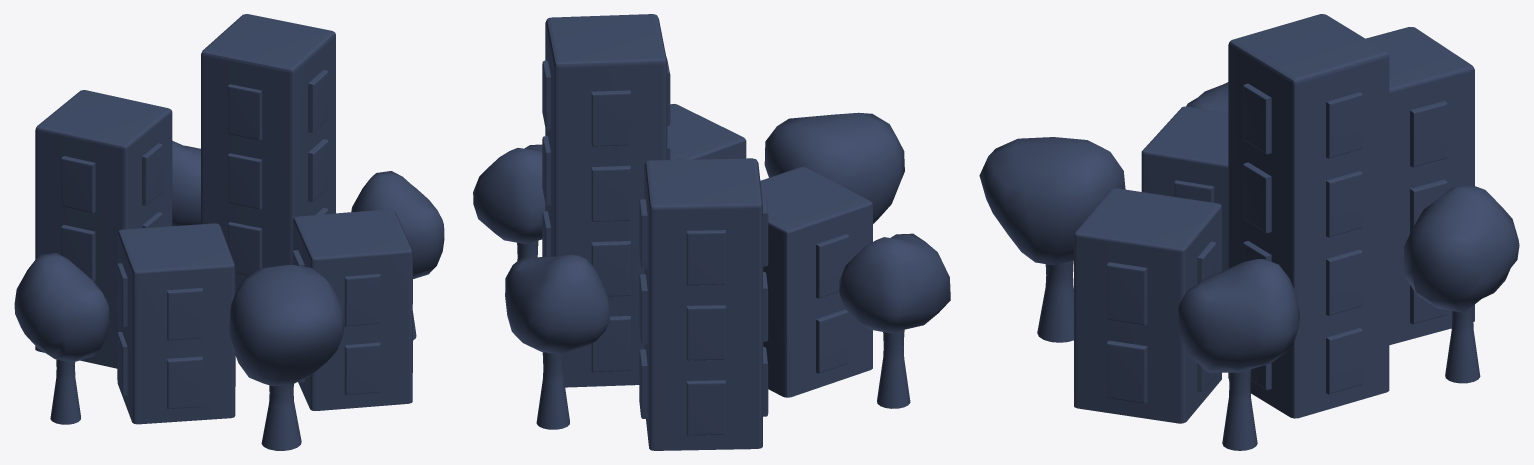
Rendered from City5.fbx.
3 views of the same model, side by side, from view 1: azimuth 30°, elevation 25°; view 2: azimuth 150°, elevation 25°; view 3: azimuth 270°, elevation 25° (orthographic). The views are drawn at different scales.
Parts seen in each view (by area): view 1: City5; view 2: City5; view 3: City5.
Part boxes in pixels (x1,y1,x2,y2): City5: (14, 14, 444, 450); City5: (473, 14, 950, 450); City5: (979, 14, 1519, 450).
Bounding box in the file's own units: 3.67 × 2.54 × 3.64.
